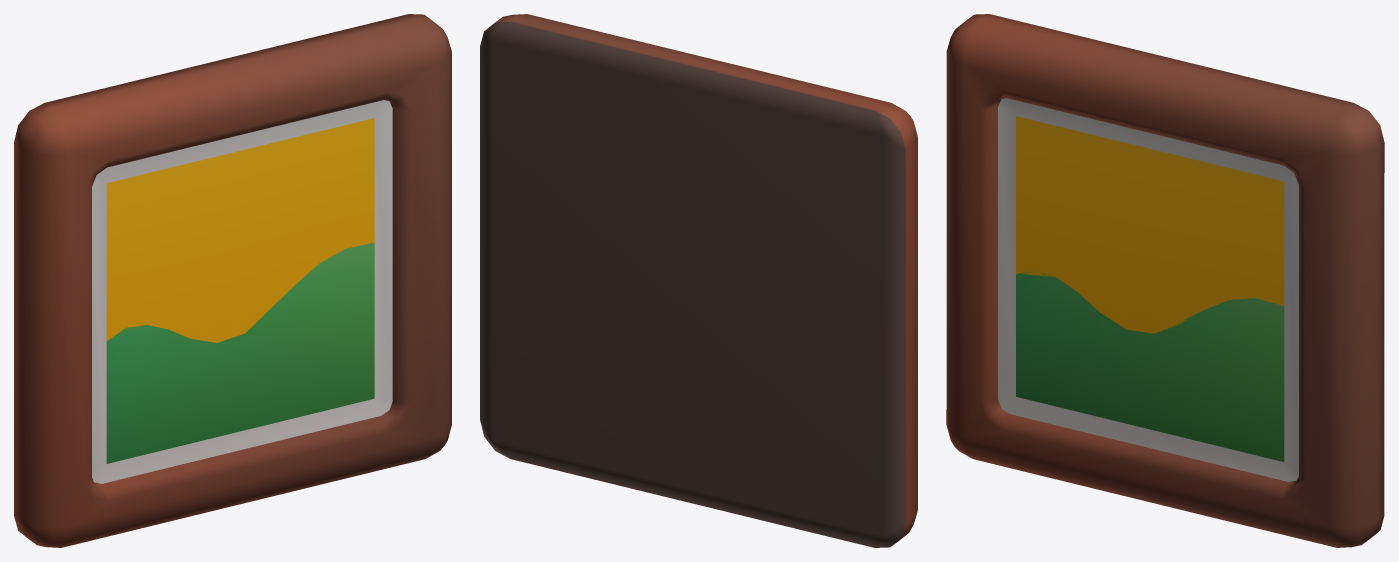
The model's file is Picture_12.glb.
3 renders of one model, left to right at view 1: azimuth 30°, elevation 25°; view 2: azimuth 150°, elevation 25°; view 3: azimuth 330°, elevation 25°, orthographic.
Visible parts, largest first — view 1: Picture_12; view 2: Picture_12; view 3: Picture_12.
Part boxes in pixels (x1,y1,x2,y2): Picture_12: [14, 14, 451, 547]; Picture_12: [480, 14, 917, 547]; Picture_12: [946, 14, 1384, 547].
Bounding box in the file's own units: 0.4773 × 0.4687 × 0.0585.
1 material, 1 textured.
